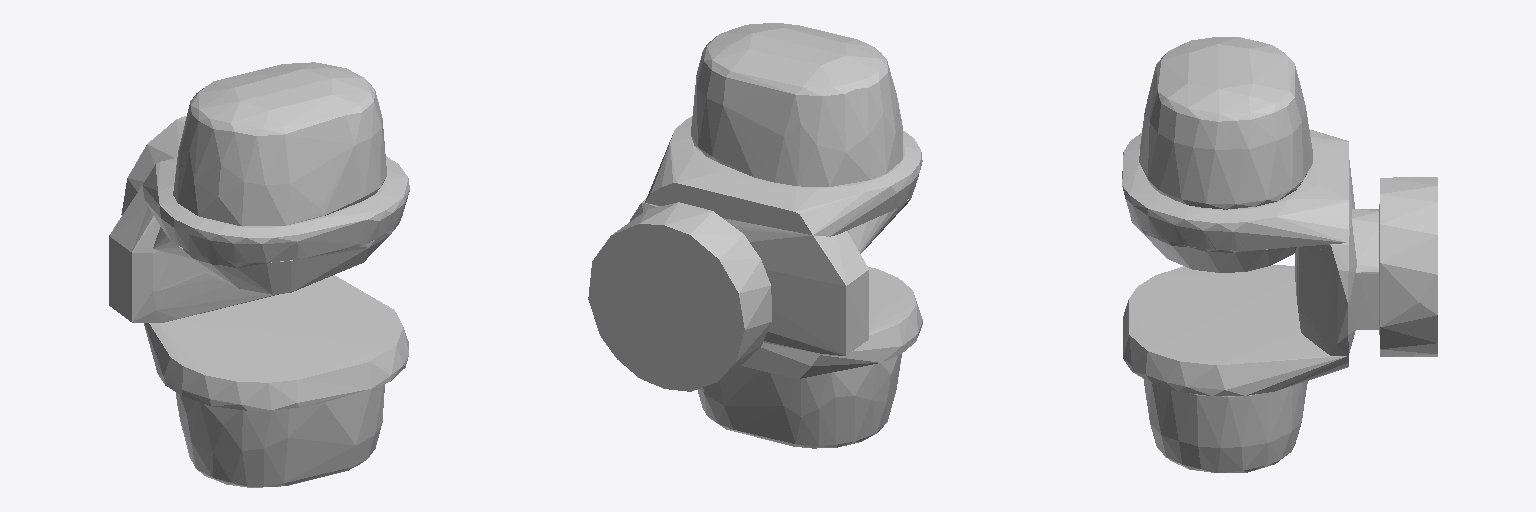
File: arm_link_sh0.obj
3 renders of one model, left to right at view 1: azimuth 30°, elevation 25°; view 2: azimuth 150°, elevation 25°; view 3: azimuth 270°, elevation 25°, orthographic.
Parts seen in each view (by area): view 1: arm0.link_sh0.006; view 2: arm0.link_sh0.006; view 3: arm0.link_sh0.006.
Part boxes in pixels (bbox=[...]): arm0.link_sh0.006: bbox=[109, 62, 409, 487]; arm0.link_sh0.006: bbox=[588, 23, 922, 448]; arm0.link_sh0.006: bbox=[1122, 37, 1437, 472].
Bounding box in the file's own units: 0.1322 × 0.2106 × 0.1592.